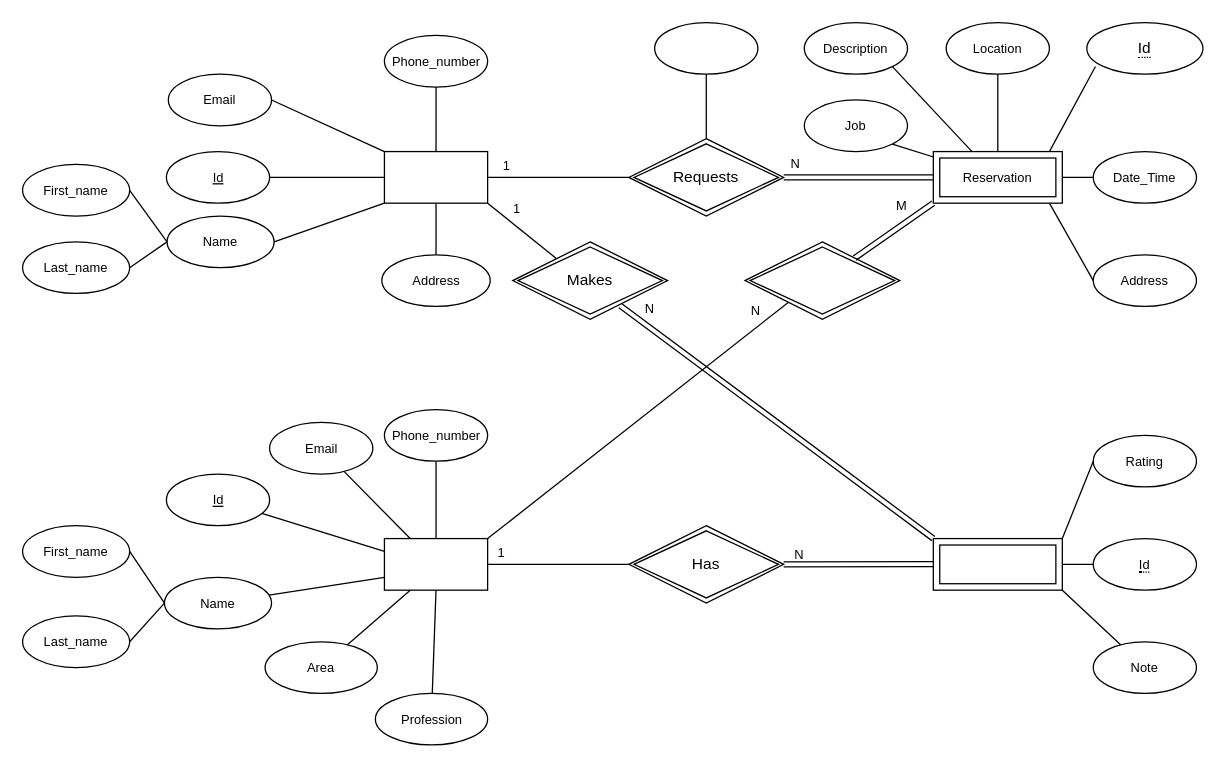
Image size: 1226x768. Some labels were removed from this diagram. The centre of each missing label's shape, as x and y in pixels:
Client: pixel 435 176
Handyman: pixel 435 563
Receives: pixel 822 280
Review: pixel 997 563
Status: pixel 705 47
